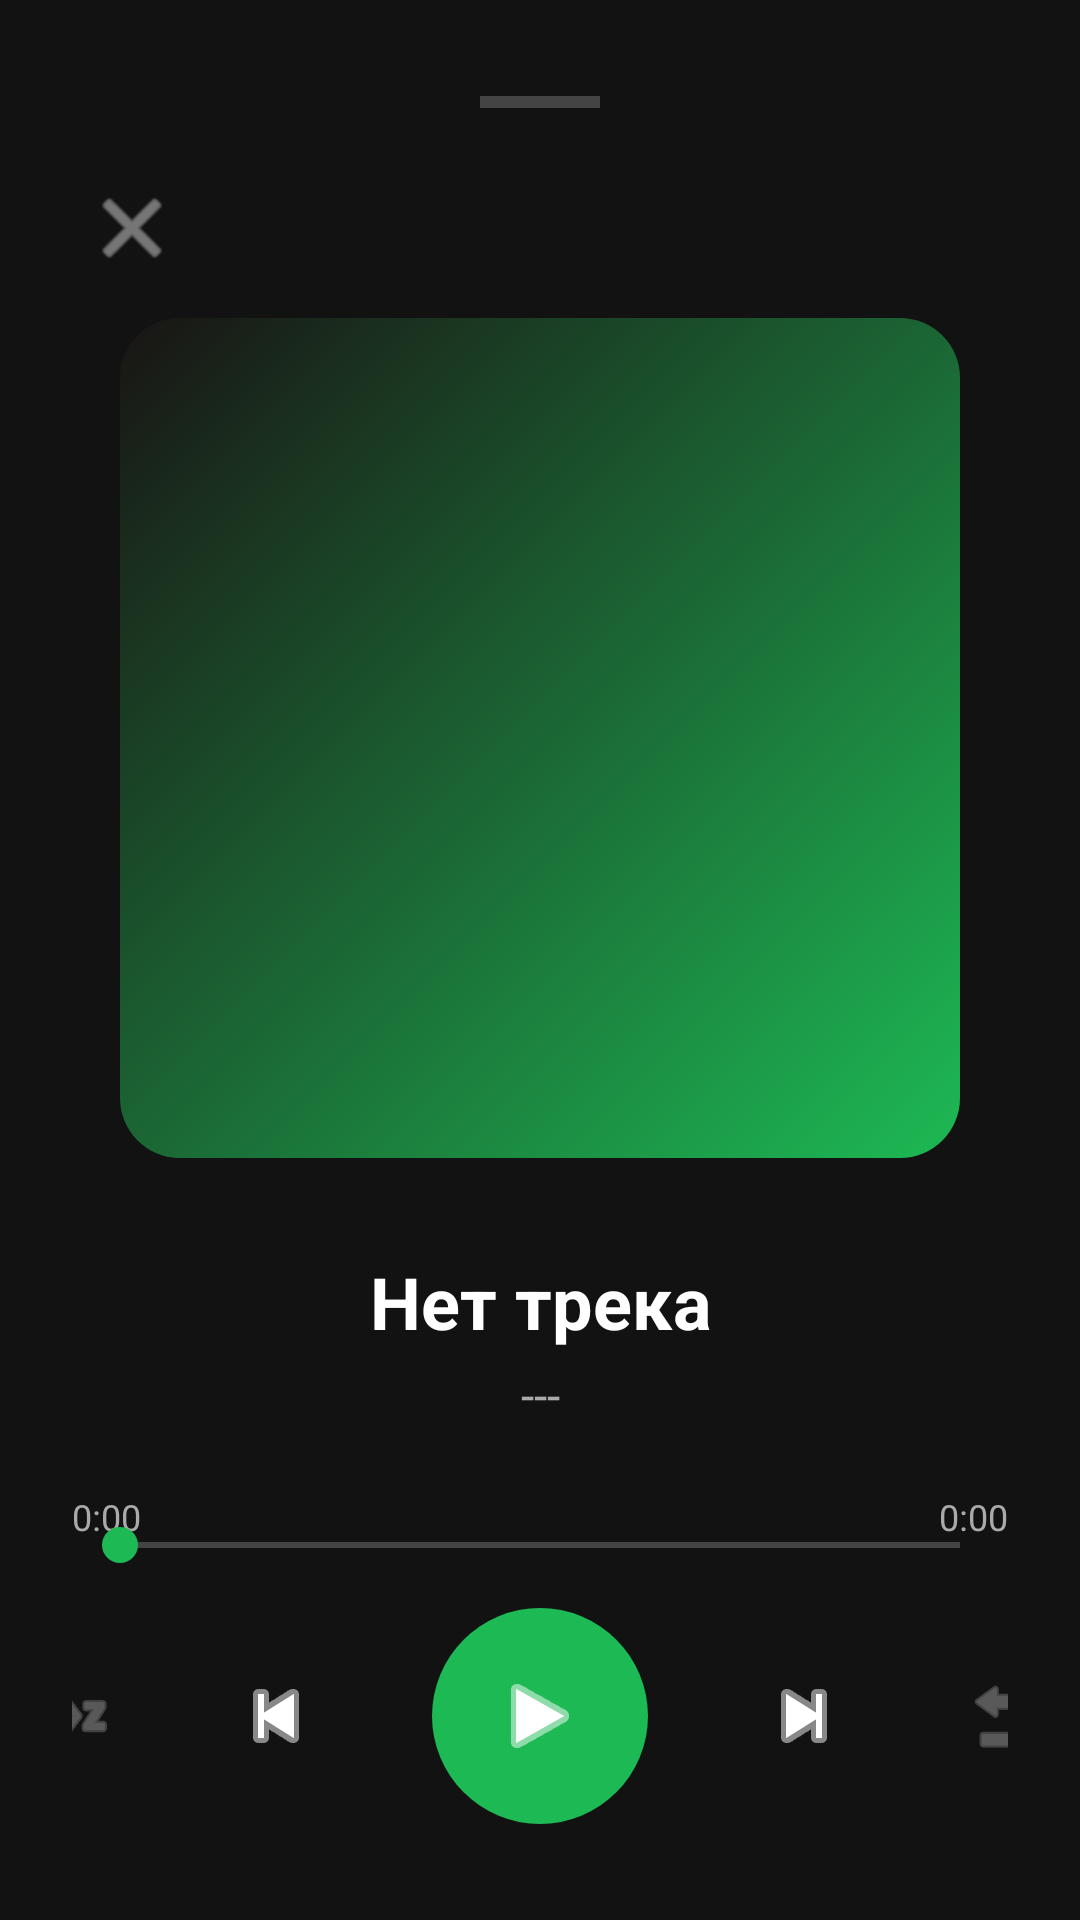

Where to tap for icons on this 1080*1920 app screen, as (x,y):
close clear cancel: (132,228)
next: (804,1716)
play: (540,1716)
previous: (276,1716)
